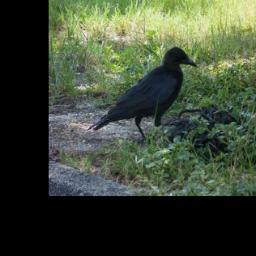Crow: (87, 46, 197, 145)
